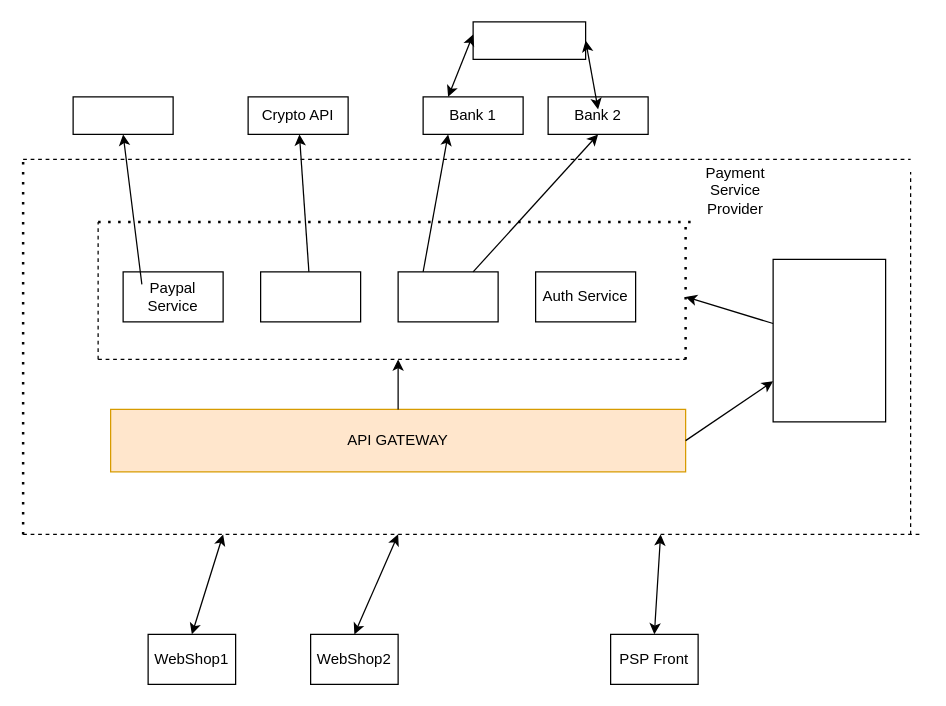
The diagram is 946 pixels wide and 706 high, and some of its shapes have lost their labels. Each missing label, with the box of its shape:
Bank Service: (397, 271, 498, 322)
Crypto Service: (259, 271, 361, 322)
Paypal API: (72, 96, 173, 134)
PCC: (472, 21, 586, 59)
SERVICE REGISTRY: (772, 258, 886, 422)
